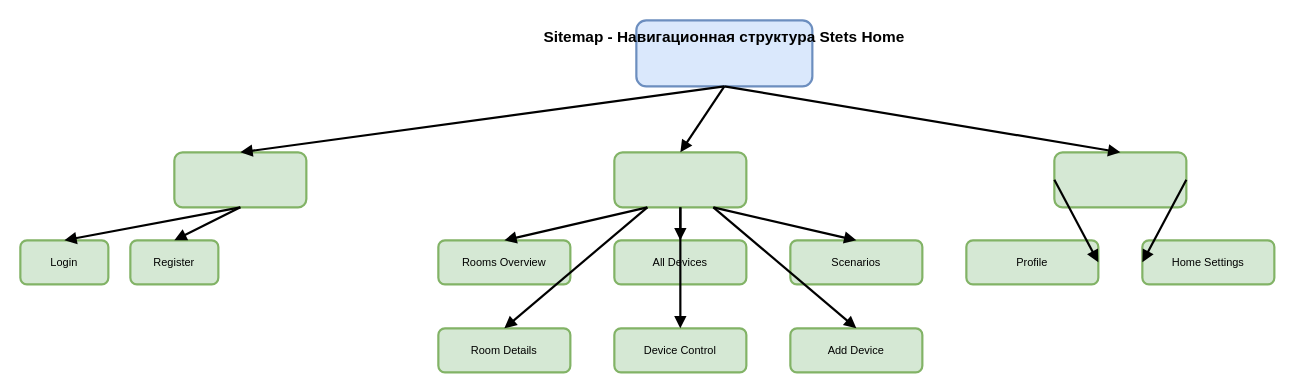
Some shapes in this 1294 by 392 pixel diagram are drawn without their labels. The shapes that lost their labels are listed below. From the top down, each one's box as (x1, y1, x2, y2) in pixels, then its label:
(635, 19, 813, 87): Stets Home App
(173, 151, 307, 208): Splash Screen
(613, 151, 747, 208): Dashboard
(1053, 151, 1187, 208): Settings
